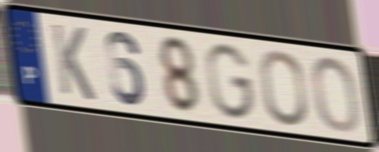6: (104, 29, 148, 108)
8: (156, 34, 202, 116)
G: (203, 41, 258, 122)
K: (48, 20, 98, 104)
O: (257, 48, 310, 128), (310, 54, 362, 135)
